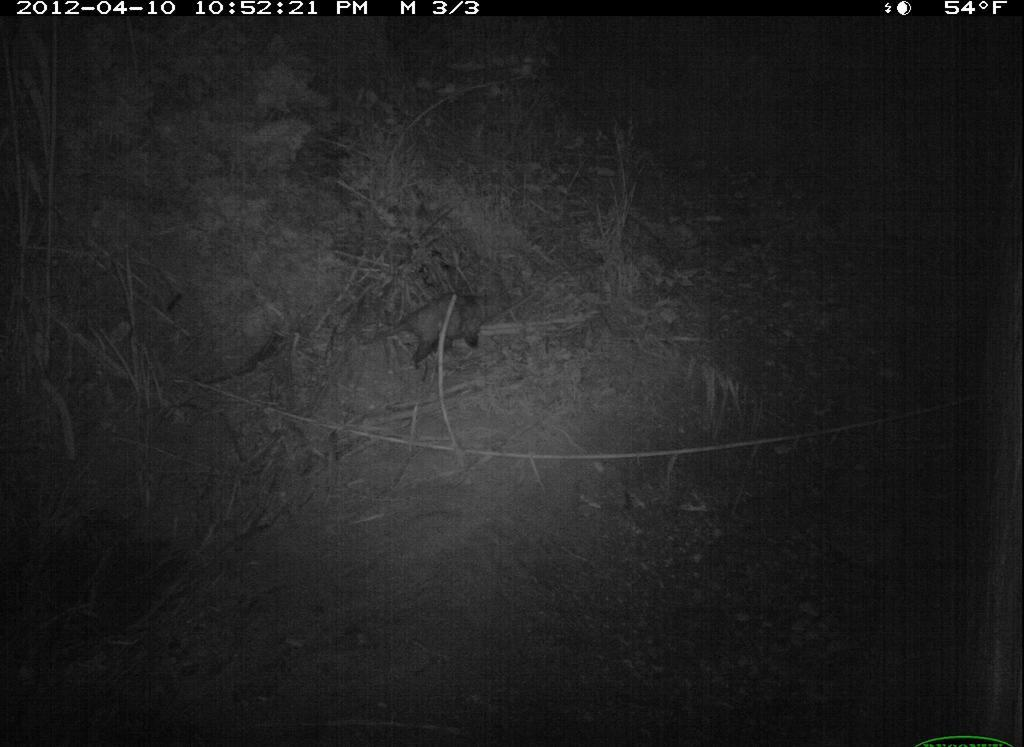opossum: (360, 295, 504, 390)
